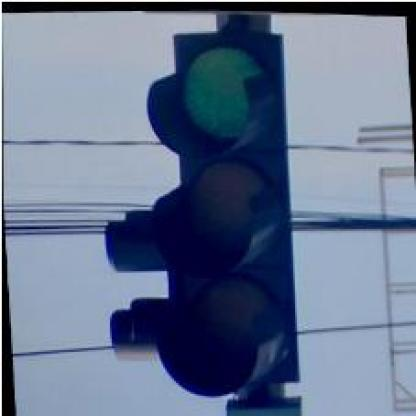green: (140, 26, 300, 400)
